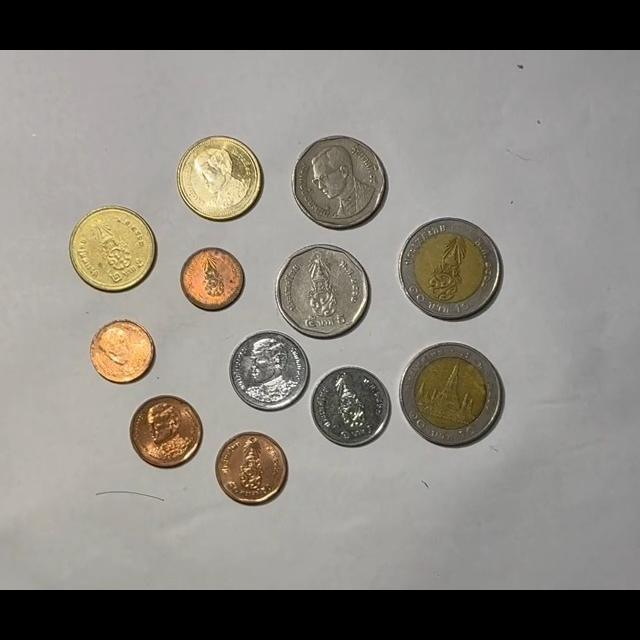1-baht: (310, 365, 392, 446), (228, 330, 309, 411)
10-baht: (399, 343, 504, 447), (398, 217, 503, 320)
2-baht: (176, 134, 264, 222), (69, 206, 155, 292)
25-satang: (90, 319, 156, 384), (180, 247, 245, 311)
5-baht: (275, 244, 370, 339), (291, 135, 387, 229)
50-satang: (215, 431, 288, 504), (130, 395, 203, 467)
